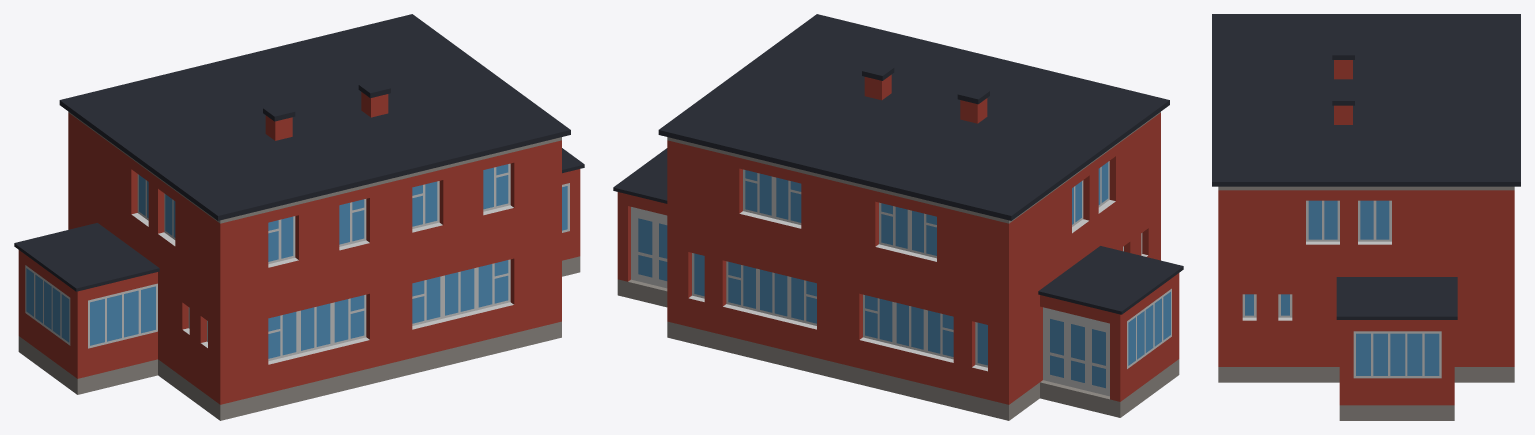
File: house_bata_07.fbx
The picture shows the model from 3 angles, left to right: view 1: azimuth 30°, elevation 25°; view 2: azimuth 150°, elevation 25°; view 3: azimuth 270°, elevation 25°; orthographic projection. The views are drawn at different scales.
Parts seen in each view (by area): view 1: house_bata_07; view 2: house_bata_07; view 3: house_bata_07.
Part boxes in pixels (x1,y1,x2,y2): house_bata_07: [14, 14, 584, 420]; house_bata_07: [613, 14, 1183, 420]; house_bata_07: [1212, 14, 1520, 420].
Size of the model in its own units: 1938 by 852 by 1045.
